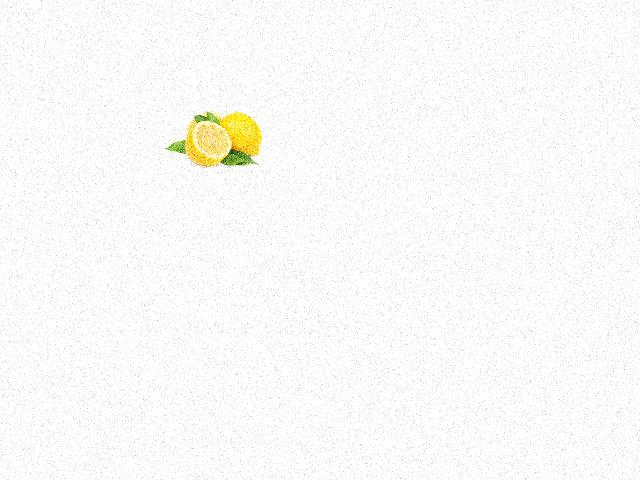lemon: (182, 120, 231, 170)
